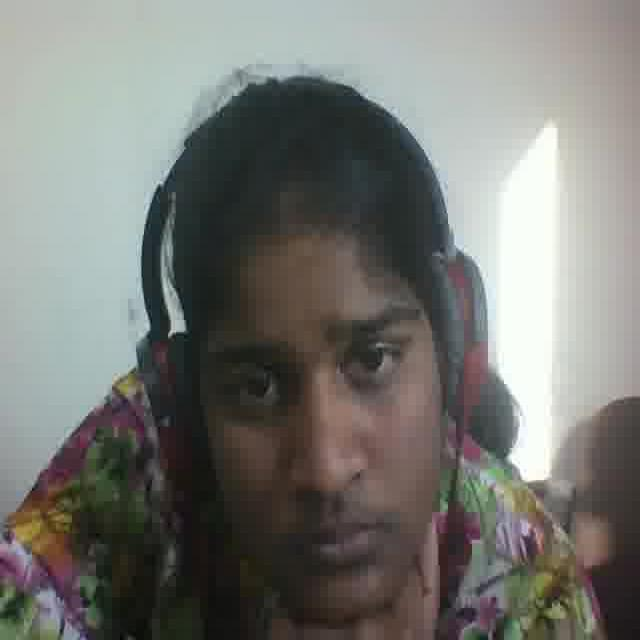Boredom: (187, 220, 436, 627)
